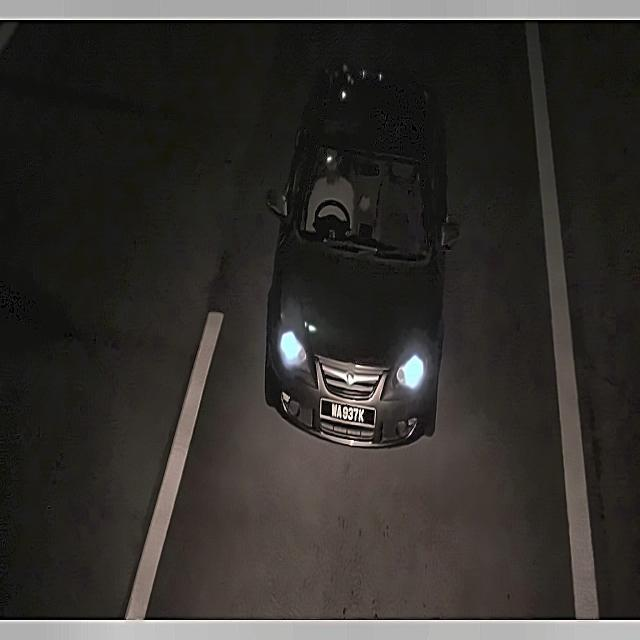car: (317, 394, 380, 432)
